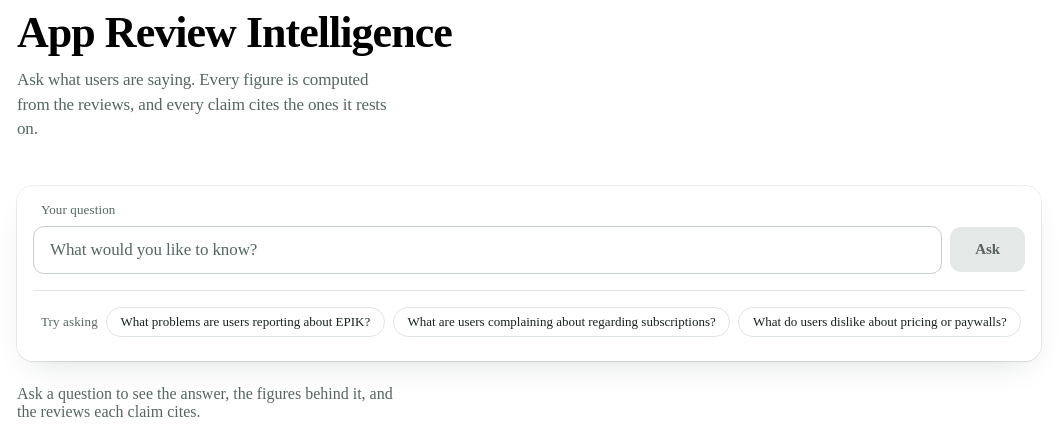
Scenario: question workflow › populates an example without sending a request and focuses the input
Click the button "What problems are users reporting about EPIK?". click: (245, 322)
box: [106,307,385,337]
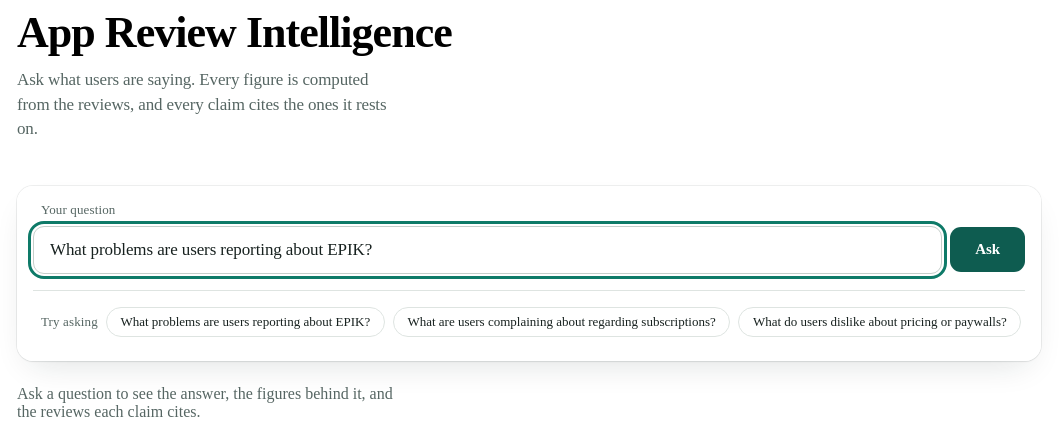
Expected: the field holds "What problems are users reporting about EPIK?", [33,226,942,274]
